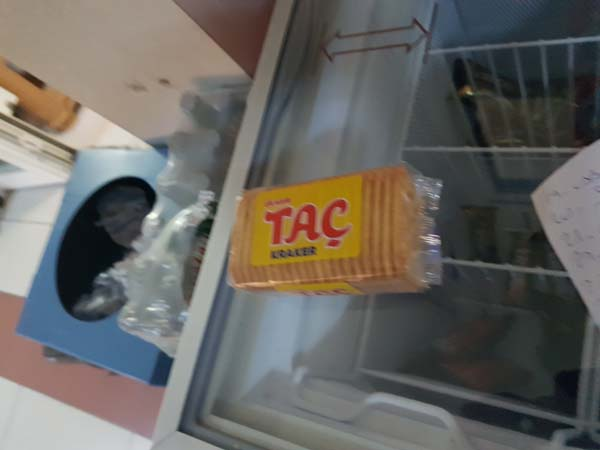tackraker: (218, 156, 450, 304)
